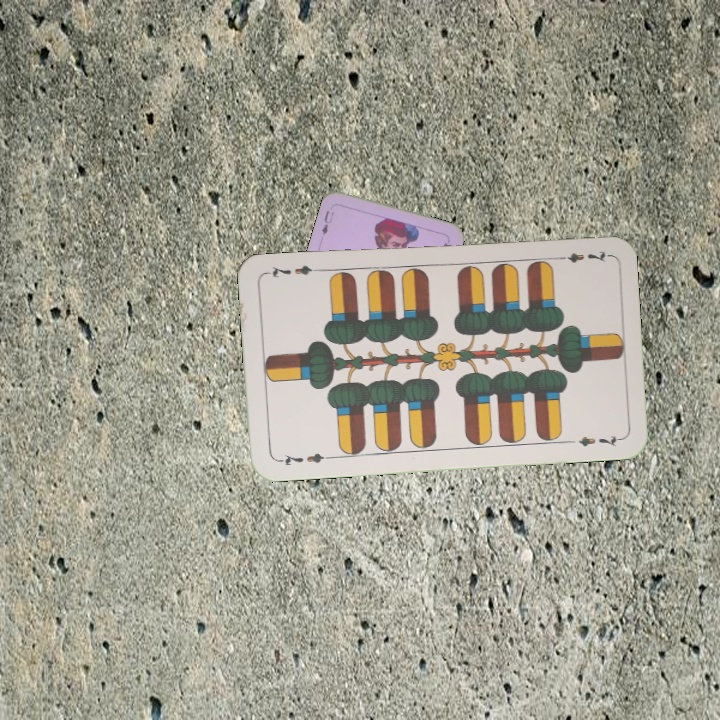E7: (274, 449, 333, 469), (551, 246, 611, 265)
EU: (318, 206, 337, 238)
